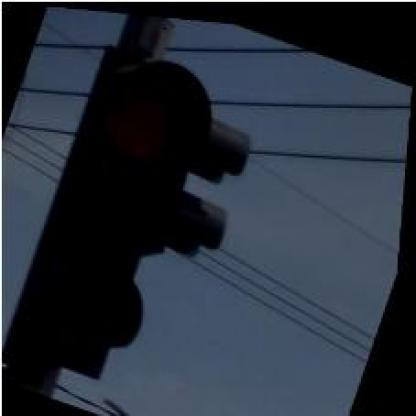red: (6, 30, 229, 384)
